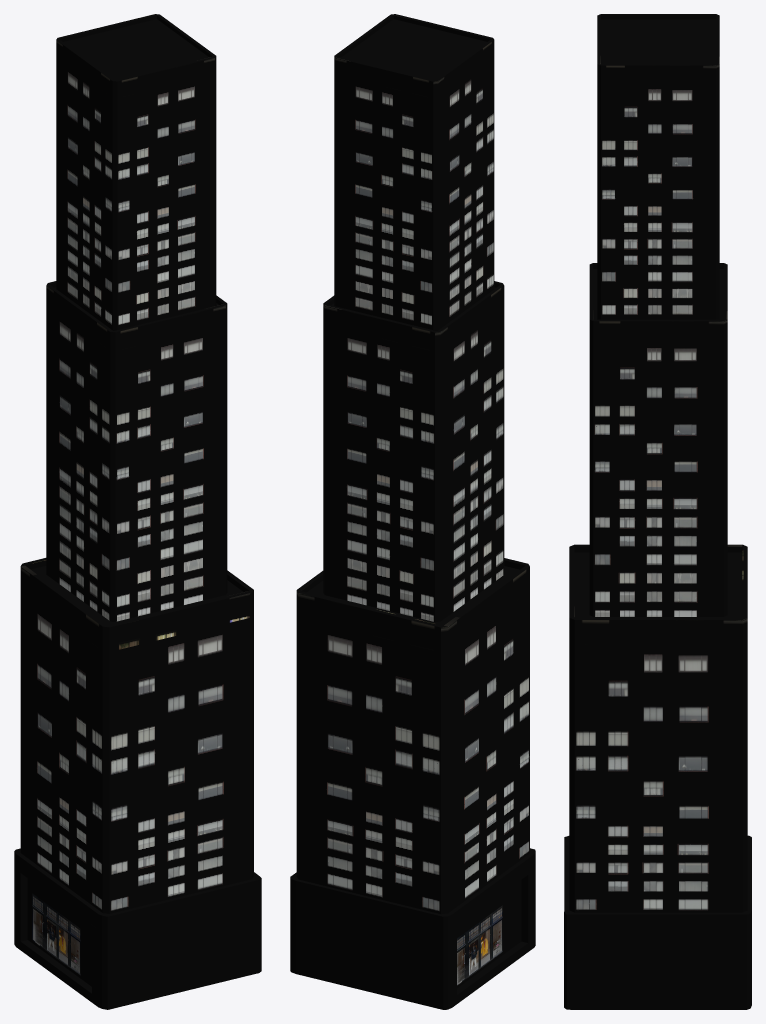
File: building6.FBX
The picture shows the model from 3 angles, left to right: view 1: azimuth 30°, elevation 25°; view 2: azimuth 150°, elevation 25°; view 3: azimuth 270°, elevation 25°; orthographic projection. The views are drawn at different scales.
Parts seen in each view (by area): view 1: Box004; view 2: Box004; view 3: Box004.
Part boxes in pixels (x1,y1,x2,y2): Box004: (14,14,261,1009); Box004: (290,14,535,1009); Box004: (564,14,751,1009).
Bounding box in the file's own units: 26.47 × 144 × 26.33.
